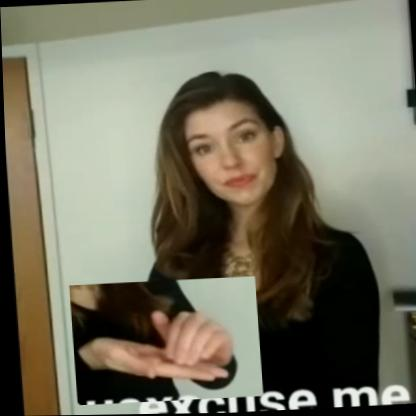ExcuseMe: (67, 277, 260, 405)
